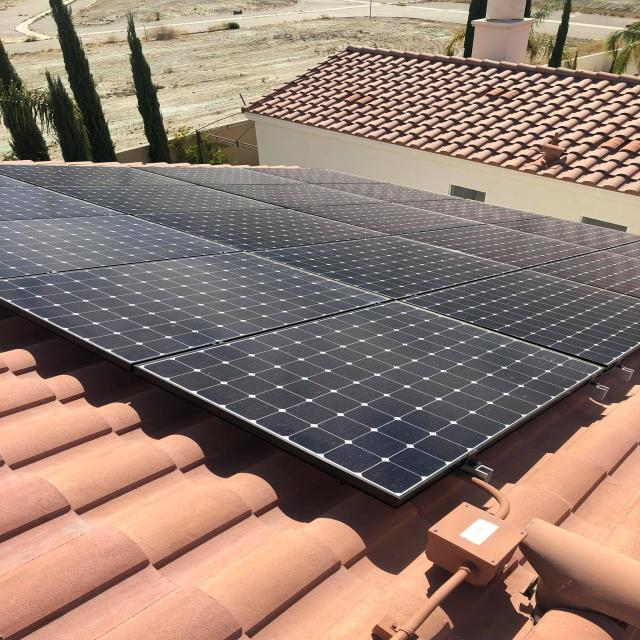dust-solar-panel: (0, 169, 607, 498)
